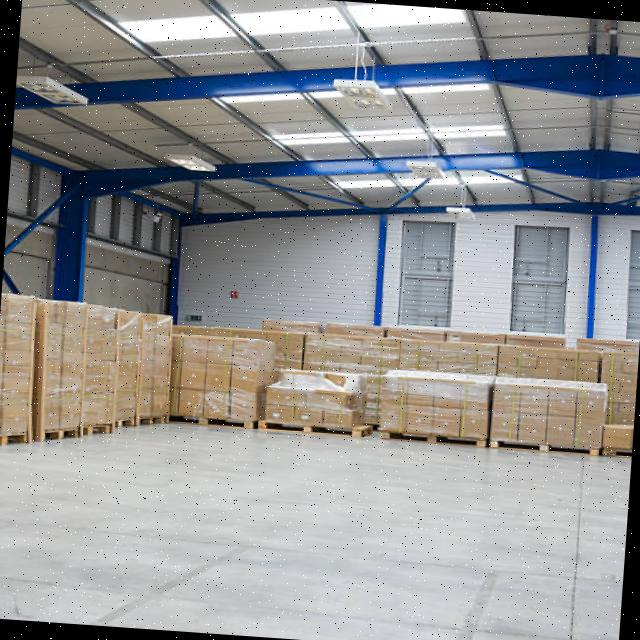Wooden-Pallets: (488, 430, 608, 464), (381, 420, 486, 452), (255, 417, 362, 441)
